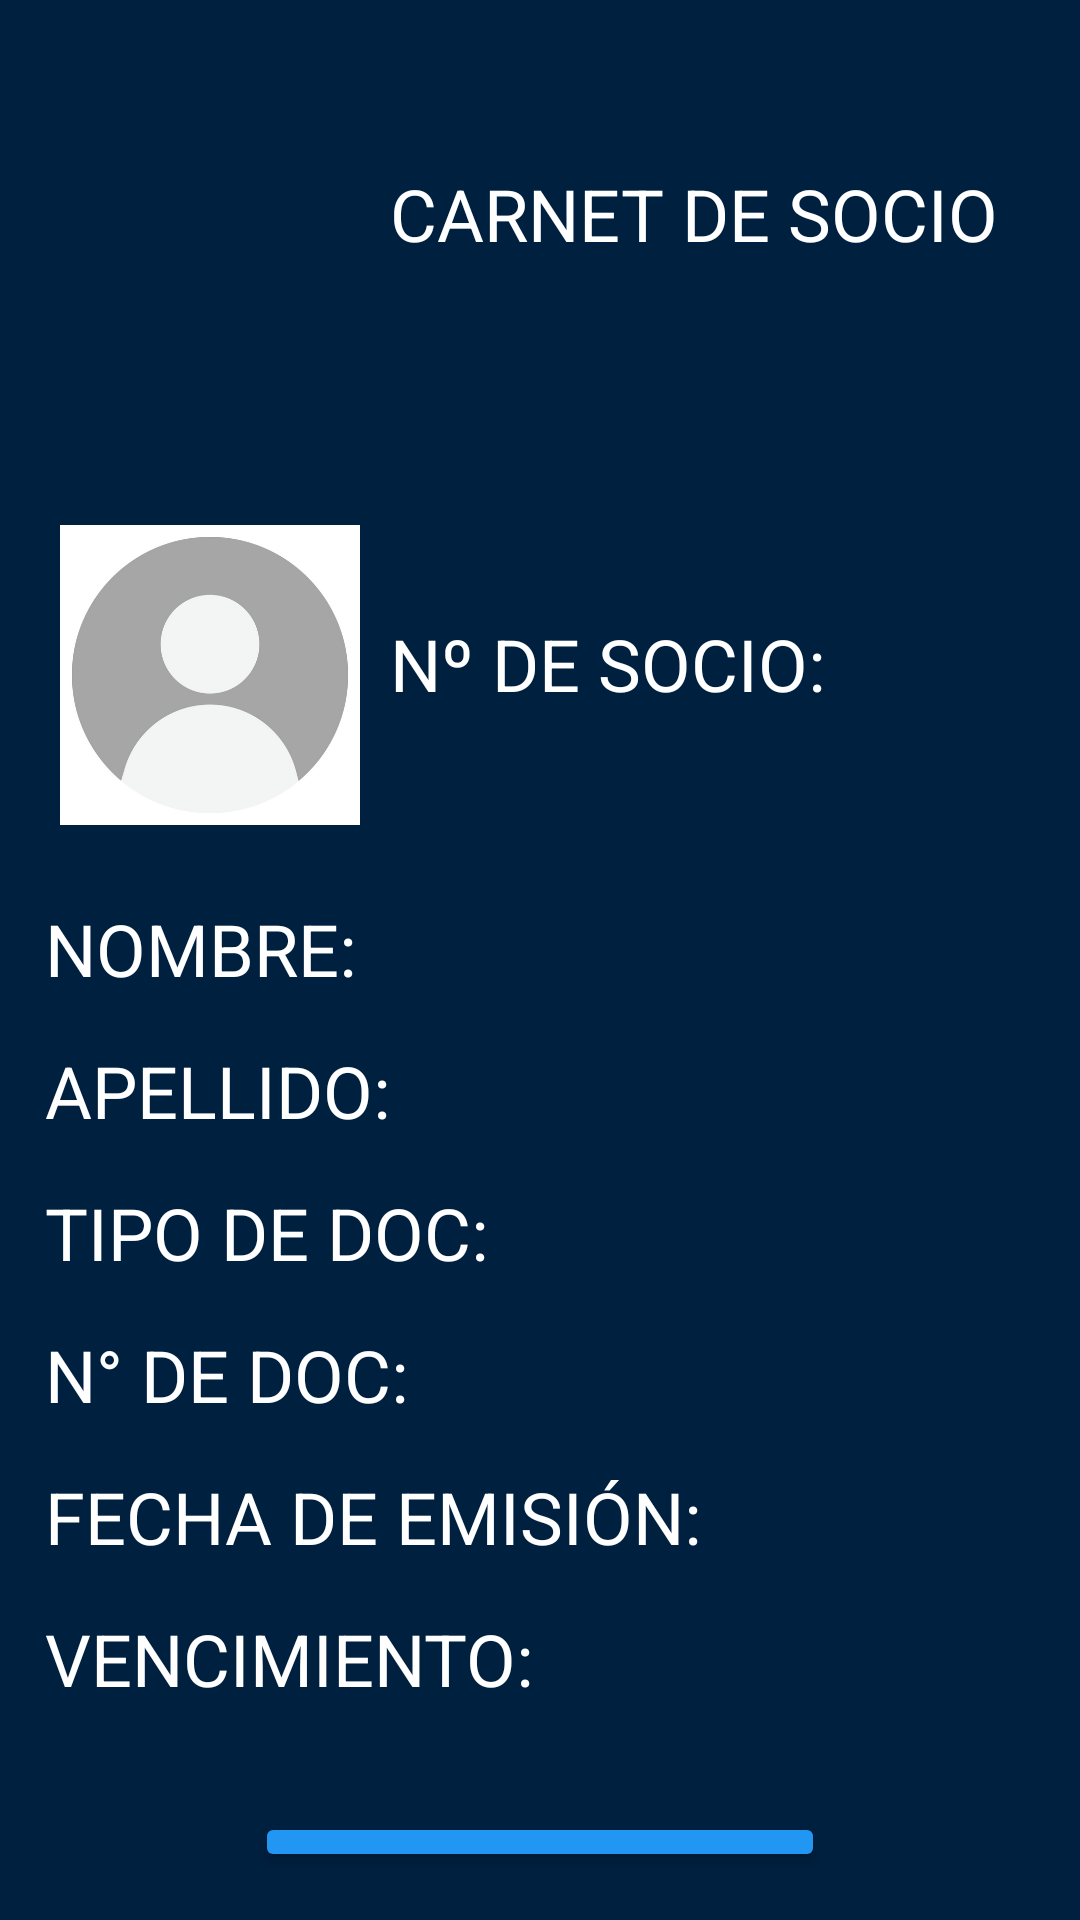

Icons on this 1080w x 1920h Android screen, each with the point to tap as (x=x, y=y):
empty profile picture: (x=210, y=675)
